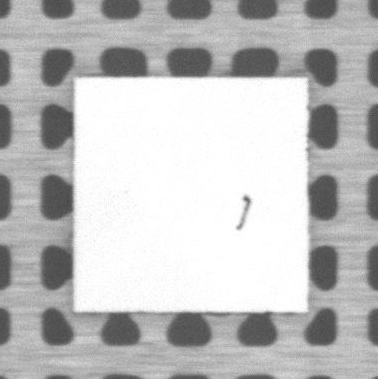DIE_INK: (236, 195, 251, 231)
